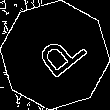P_SW: (24, 25, 86, 85)
